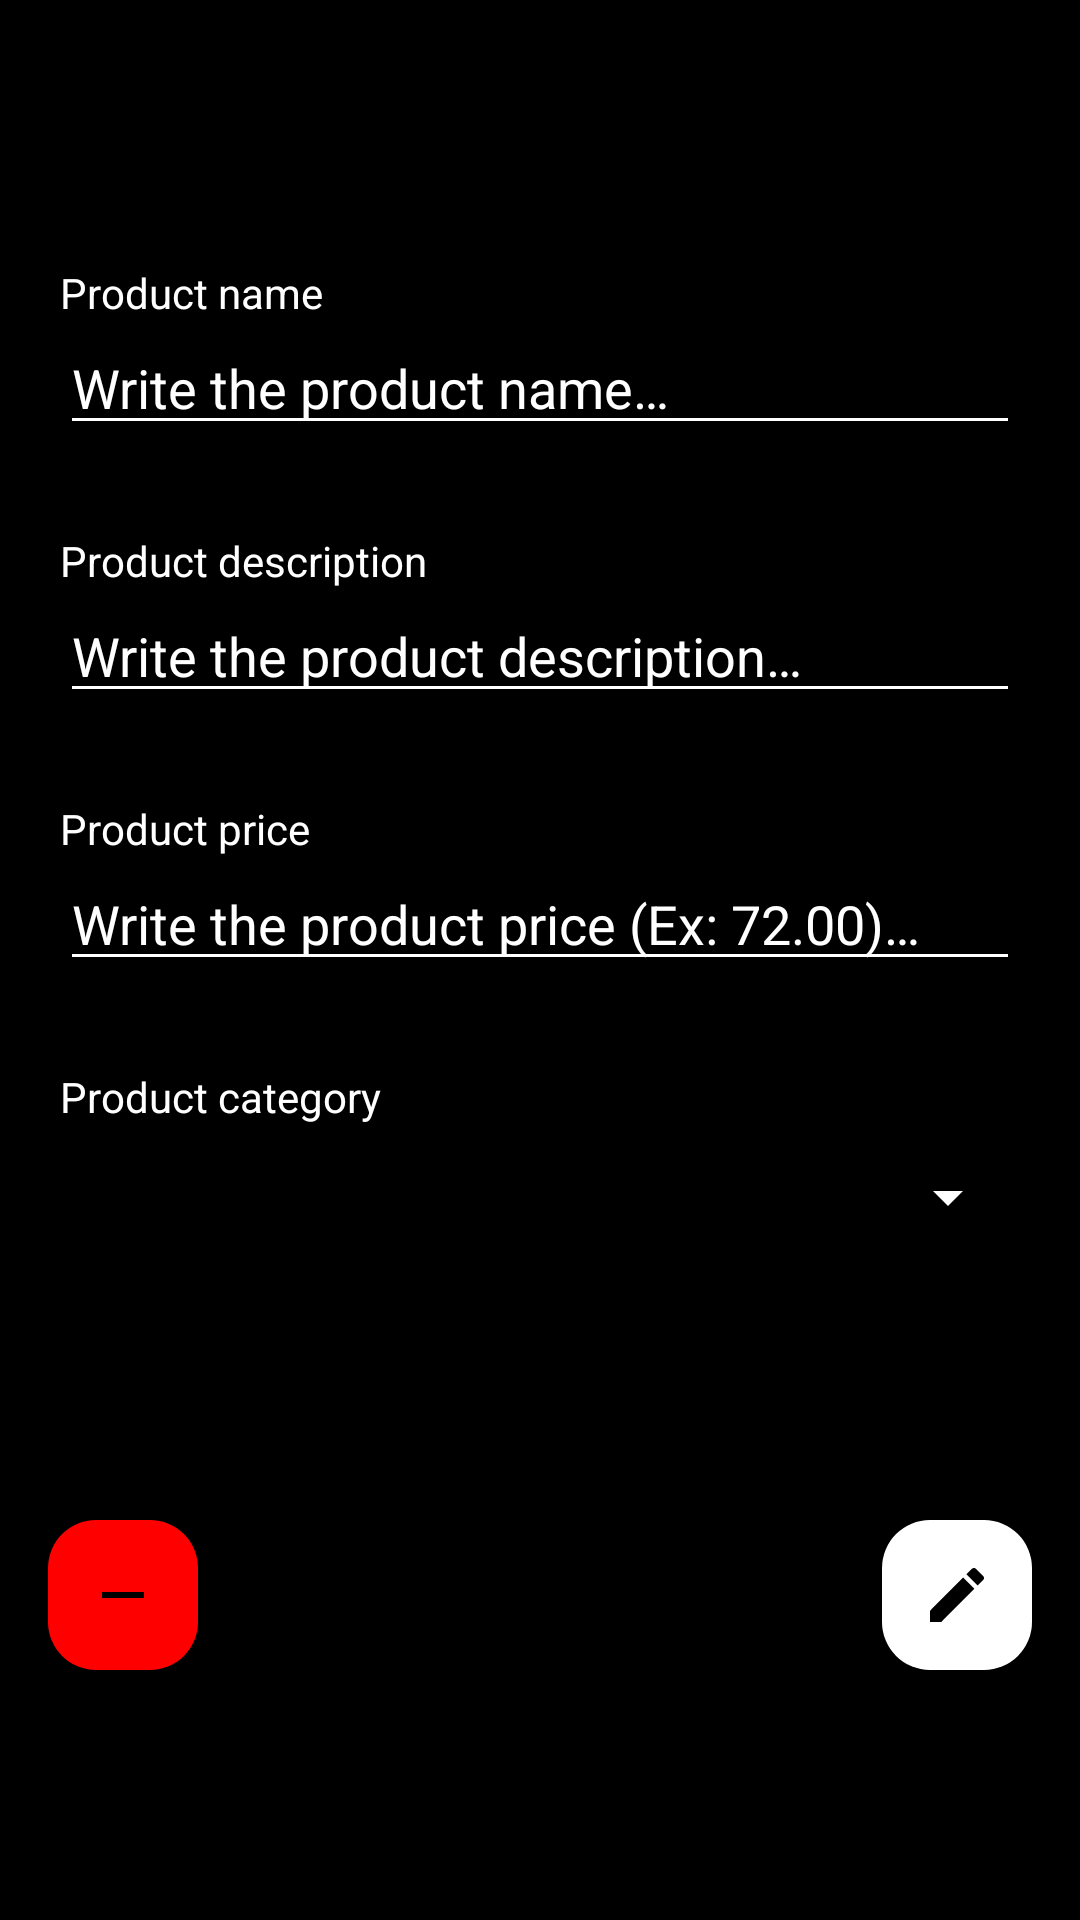

Icon bounding boxes for this 1080×1920 phone screenshot, format (x1, y1, x2, y2):
delete: (48, 1520, 198, 1670)
